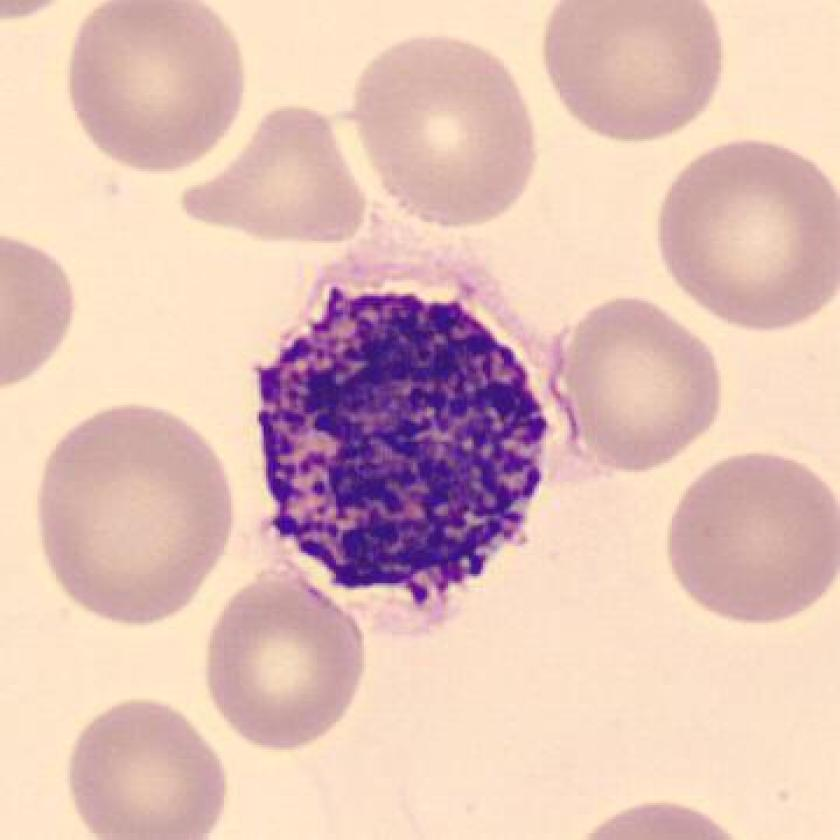basophil: (246, 269, 559, 612)
